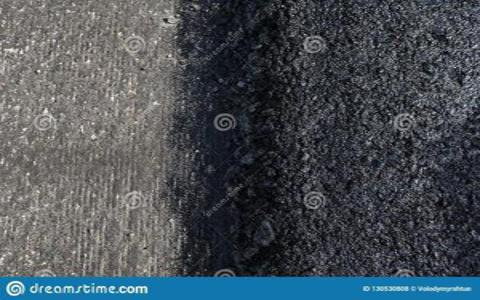Proper road: (306, 4, 477, 262)
